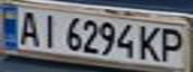2: (78, 16, 100, 54)
4: (115, 21, 139, 59)
6: (60, 15, 84, 52)
9: (97, 19, 118, 56)
A: (15, 8, 42, 46)
I: (36, 11, 63, 48)
K: (136, 24, 166, 62)
P: (157, 25, 190, 63)
